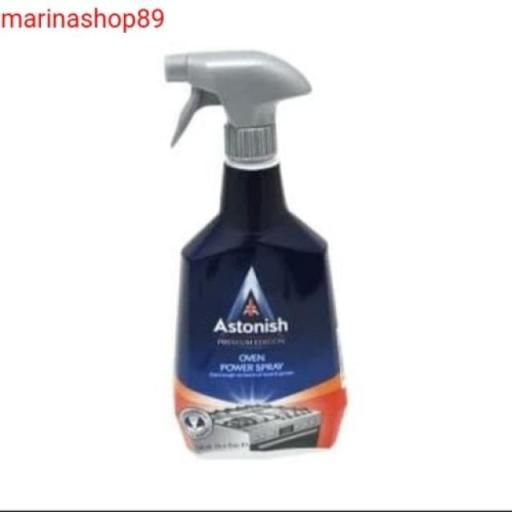plastic: (154, 47, 356, 461)
